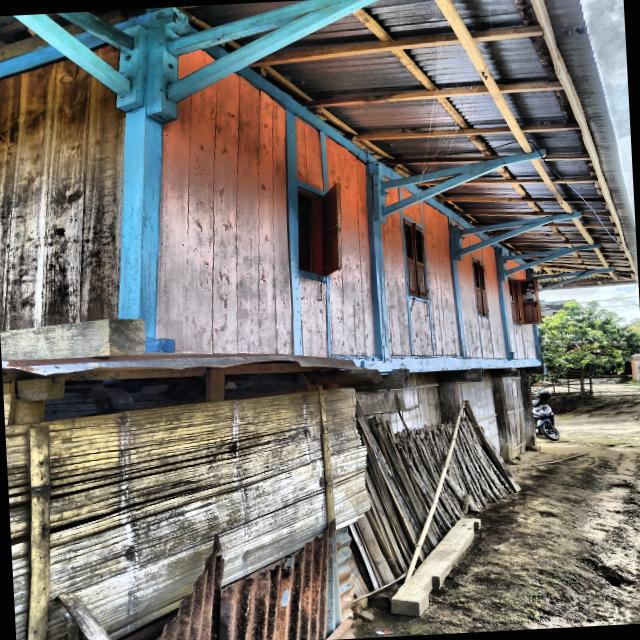roof: (450, 0, 637, 286)
wall: (156, 75, 292, 354), (0, 61, 123, 330), (382, 204, 459, 356), (325, 140, 374, 356), (421, 204, 459, 356), (456, 247, 505, 359), (502, 280, 536, 359)
window: (297, 184, 340, 275), (402, 221, 426, 298), (507, 279, 540, 325), (472, 260, 487, 316)
